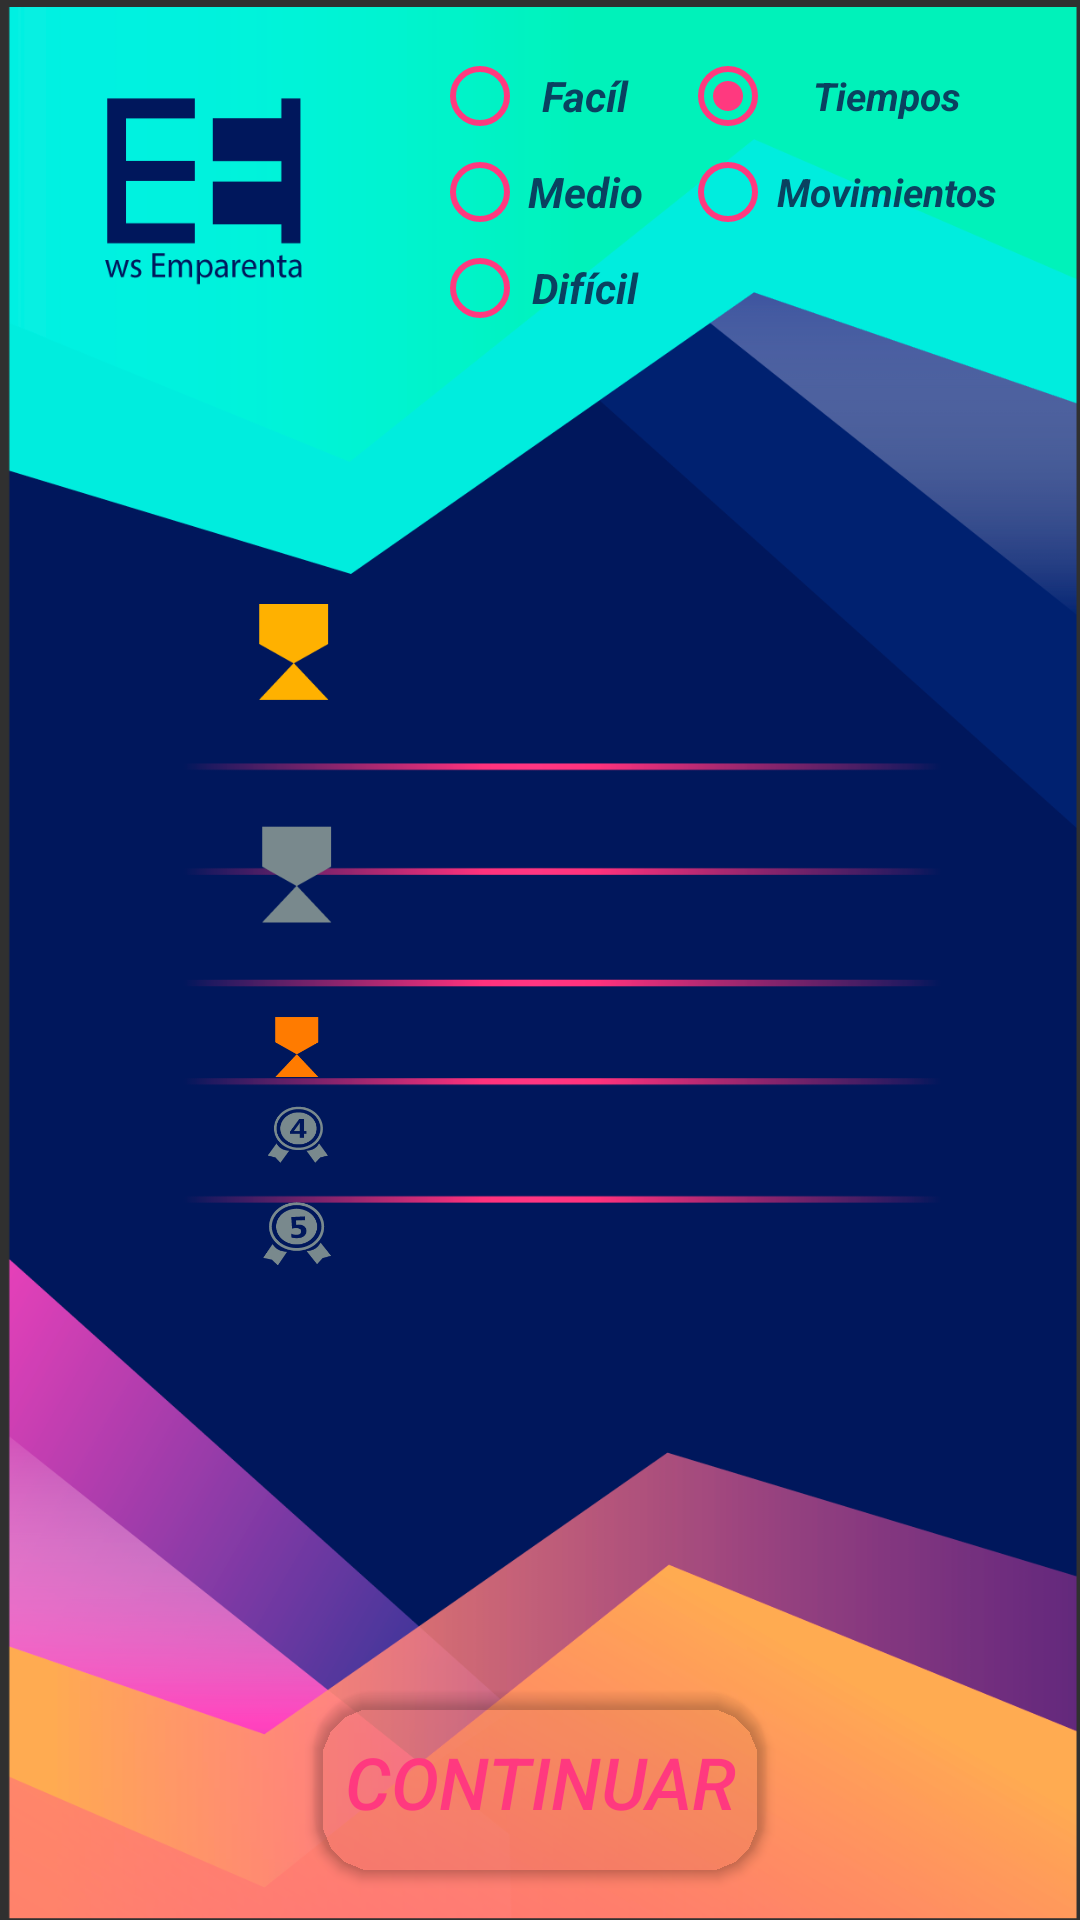

Icons on this 1080*1920 Android screen, each with its box as (x1, y1, x2, y2):
bronce: (275, 1017, 319, 1077)
oro: (259, 604, 329, 700)
plata: (237, 826, 357, 923)
